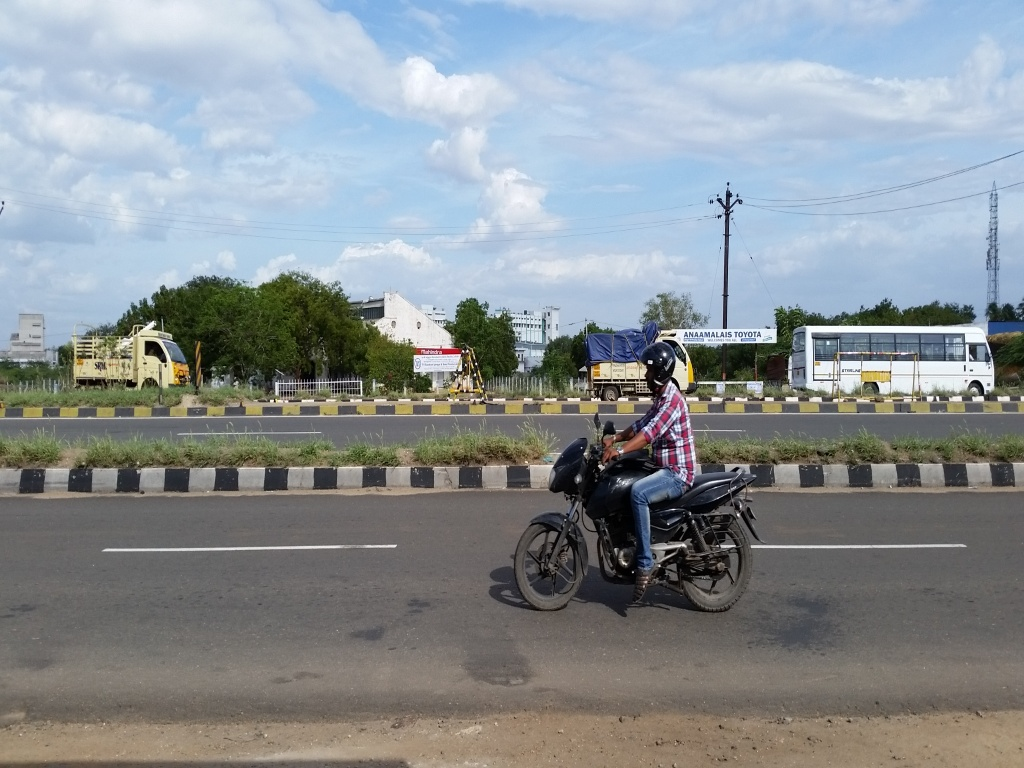biker: (482, 312, 792, 631)
helmet: (635, 333, 687, 407)
